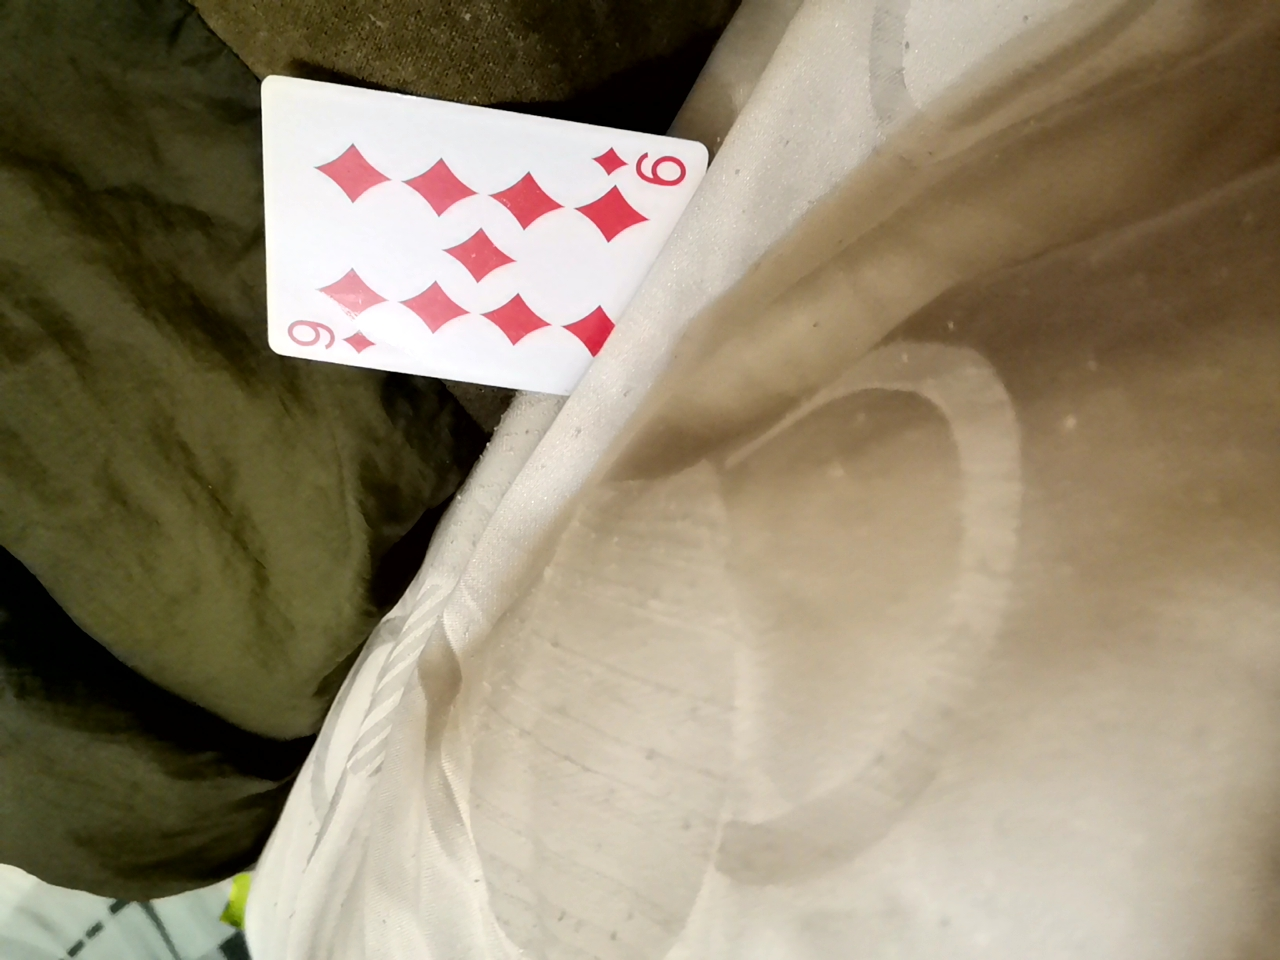fk 9: (221, 72, 707, 425)
